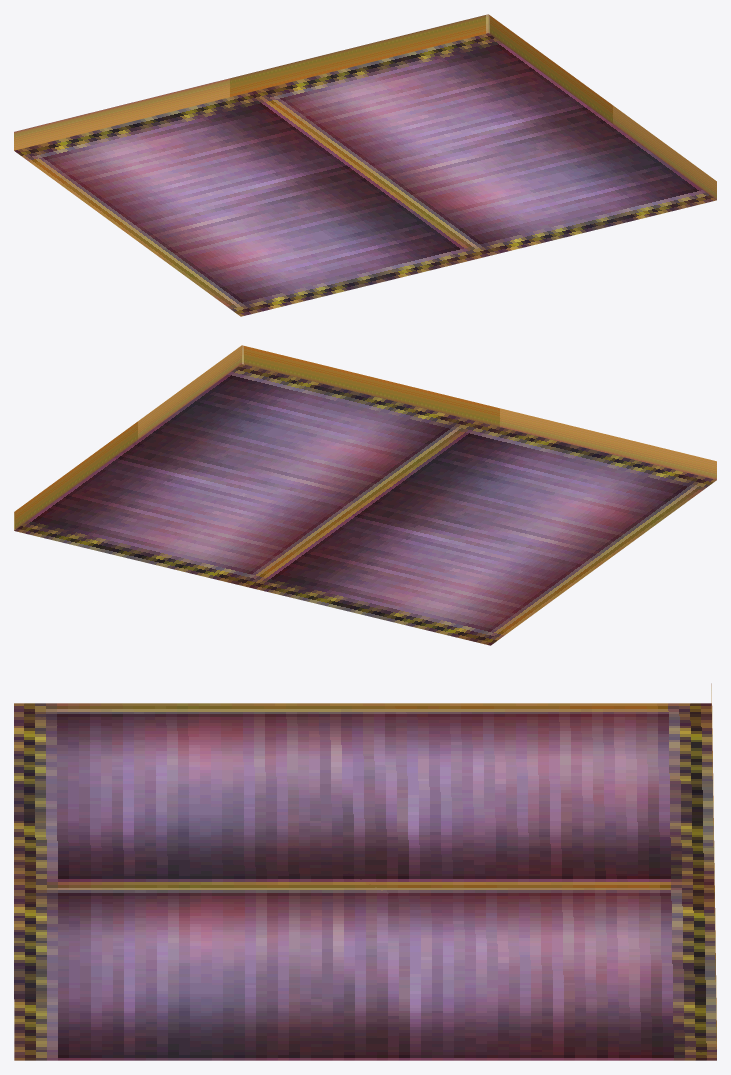
The model's file is RAMP06b01.glb.
The picture shows the model from 3 angles, top to bottom: view 1: azimuth 30°, elevation 25°; view 2: azimuth 150°, elevation 25°; view 3: azimuth 270°, elevation 25°; orthographic projection. The views are drawn at different scales.
Visible parts, largest first — view 1: RAMP06b01; view 2: RAMP06b01; view 3: RAMP06b01.
Part boxes in pixels (bbox=[...]): RAMP06b01: bbox=[14, 14, 716, 316]; RAMP06b01: bbox=[14, 345, 716, 645]; RAMP06b01: bbox=[14, 683, 716, 1060].
Size of the model in its own units: 1607 by 61.57 by 1336.
Materials: 1 (1 with a texture image).
